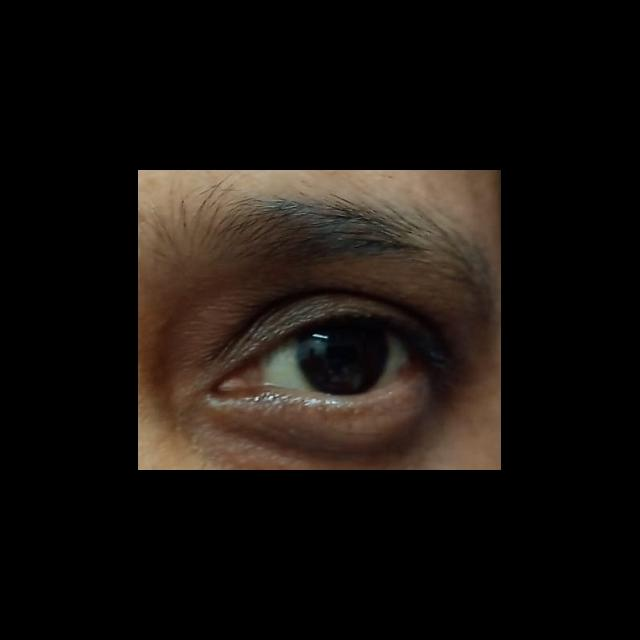eye: (259, 312, 412, 397)
iris: (297, 314, 390, 397)
